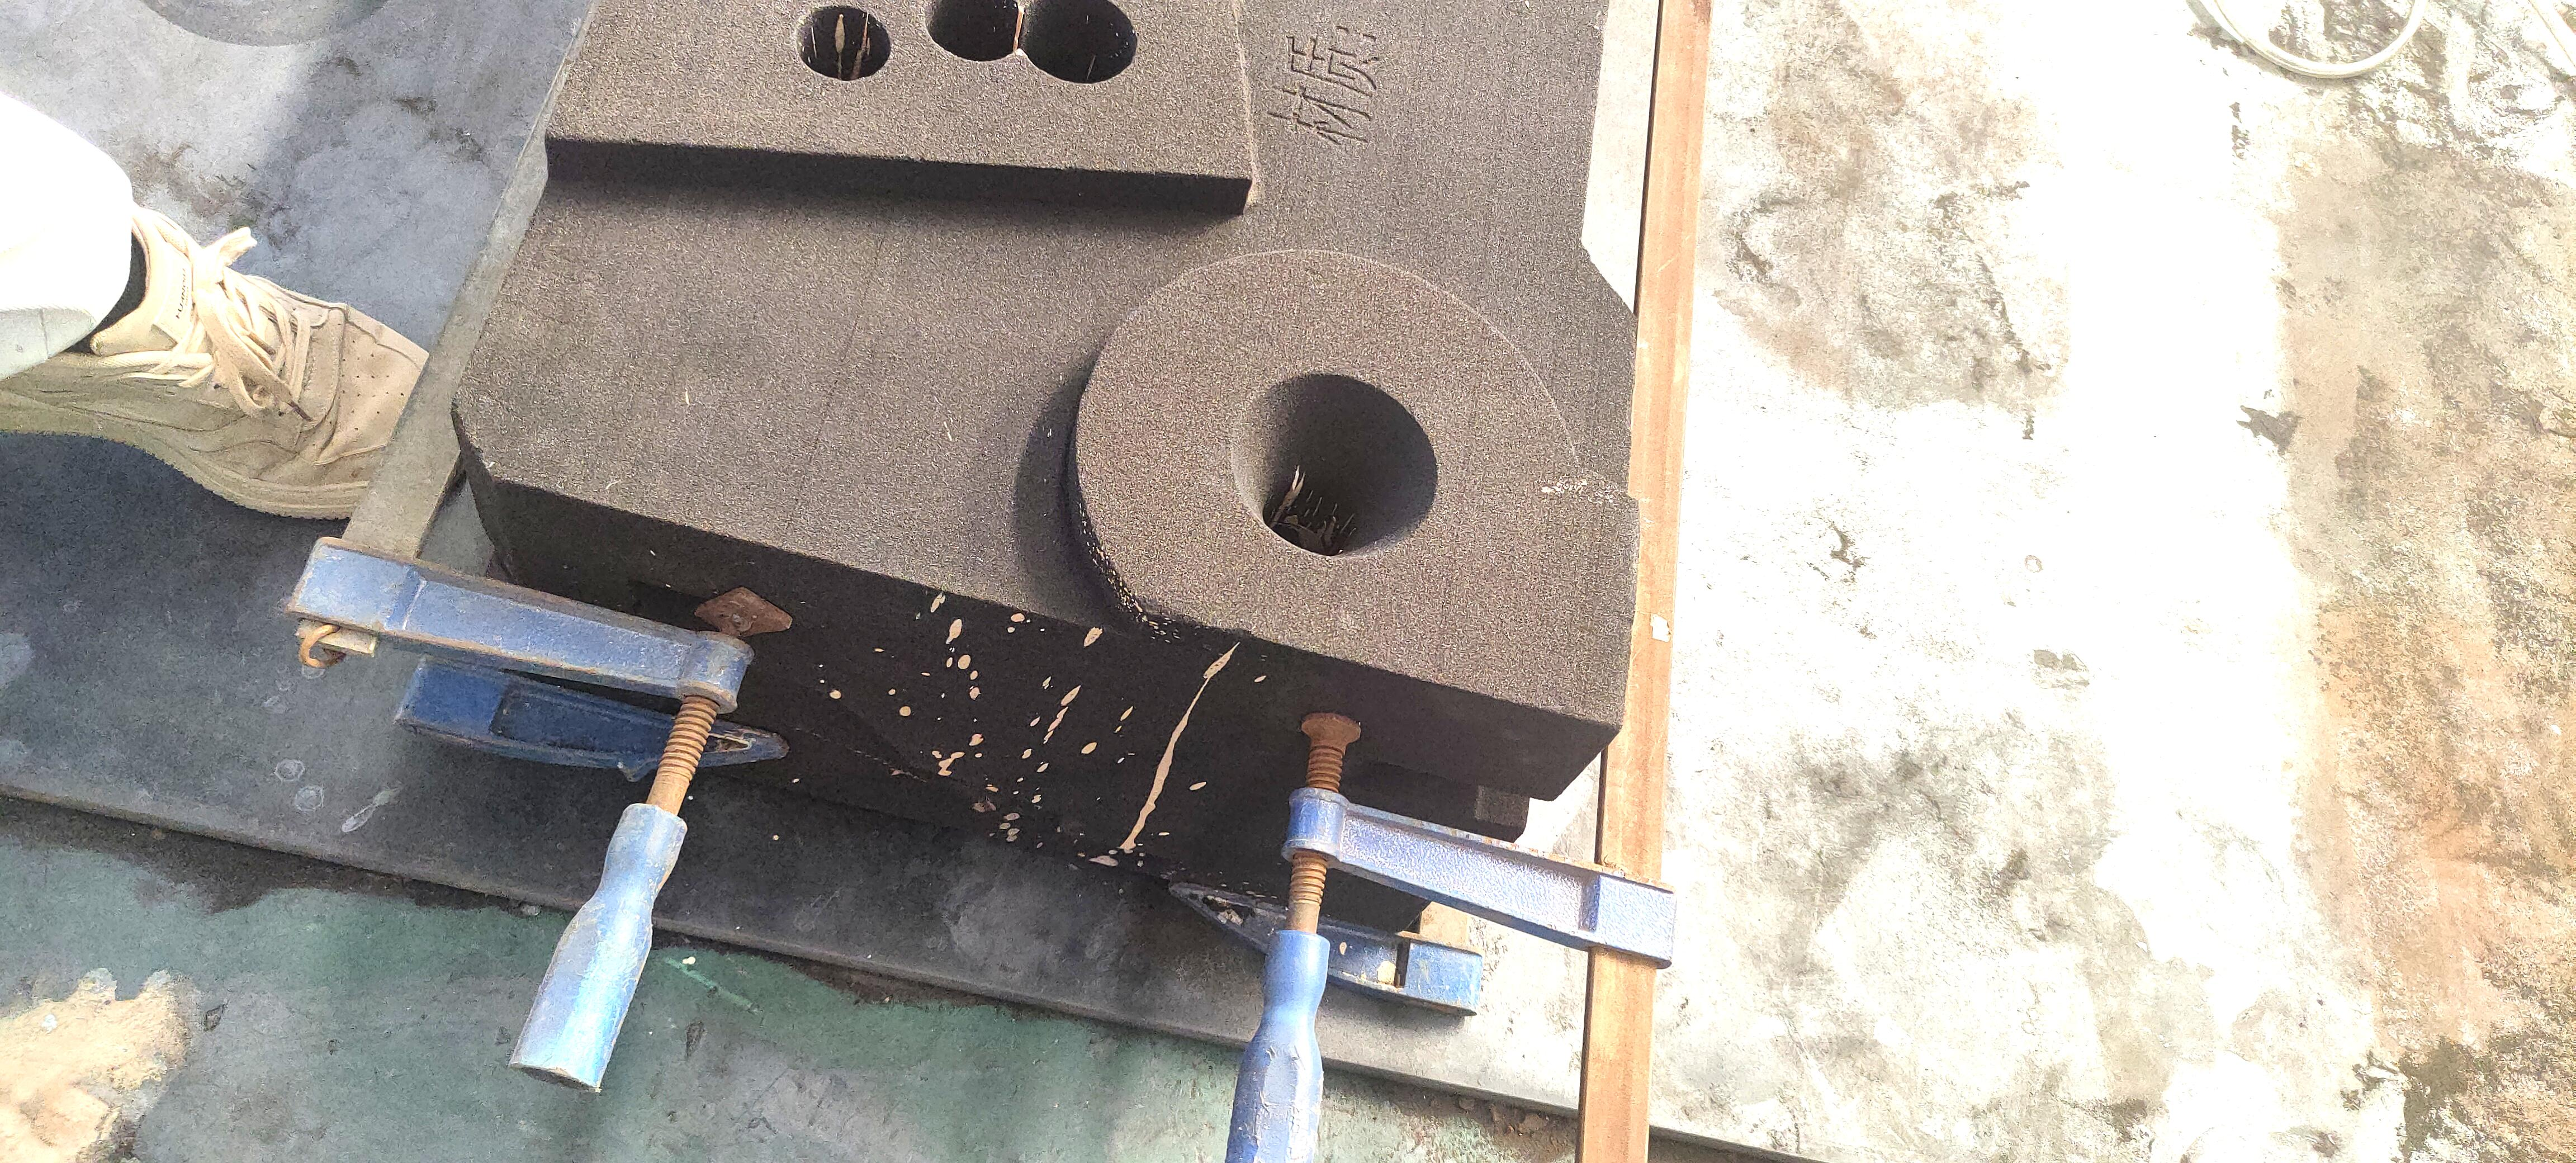pouring hole: (1229, 370, 1437, 555)
